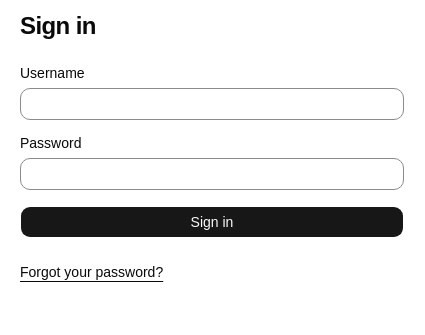
Scenario: the sign-in page › stops without presenting credentials when ending the session fails with 400
In the field labelled "Username": (212, 104) top-left (20, 88), bottom-right (404, 120), type "ada.lovelace"
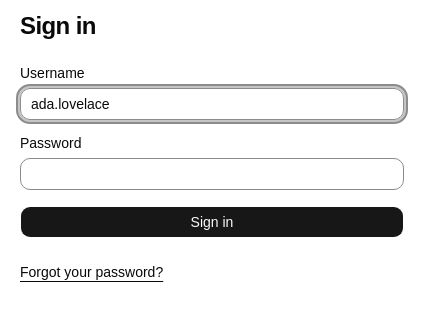
In the password field labelled "Password": (212, 174) top-left (20, 158), bottom-right (404, 190), type "correct horse battery staple"
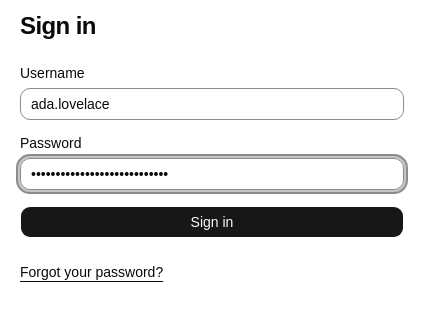
Click the button "Sign in": (212, 222) top-left (20, 206), bottom-right (404, 238)
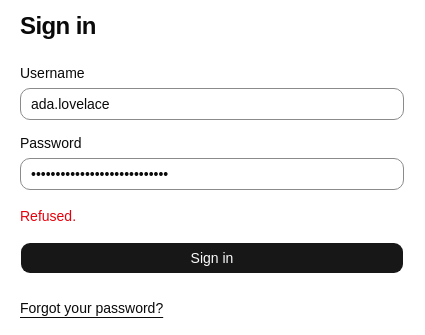
Check: the message "Refused." is shown, box top-left (20, 208), bottom-right (76, 224)
